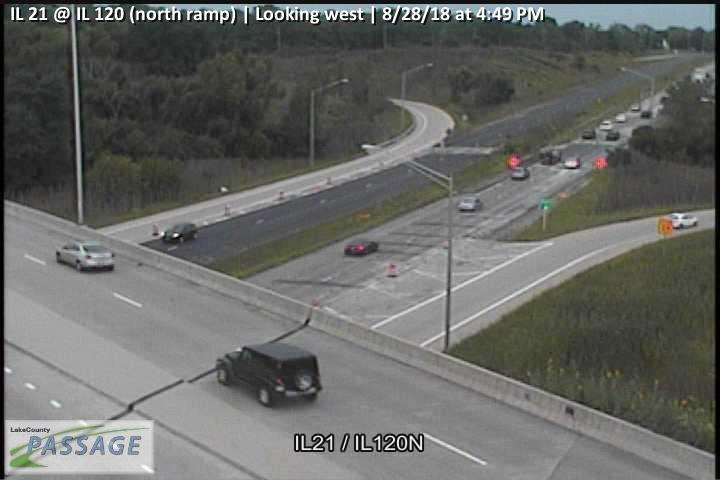SUV: (214, 341, 323, 406), (160, 222, 199, 242)
Sedan: (55, 239, 116, 272), (668, 212, 699, 230), (345, 238, 378, 254), (457, 195, 483, 211), (510, 166, 530, 178)
